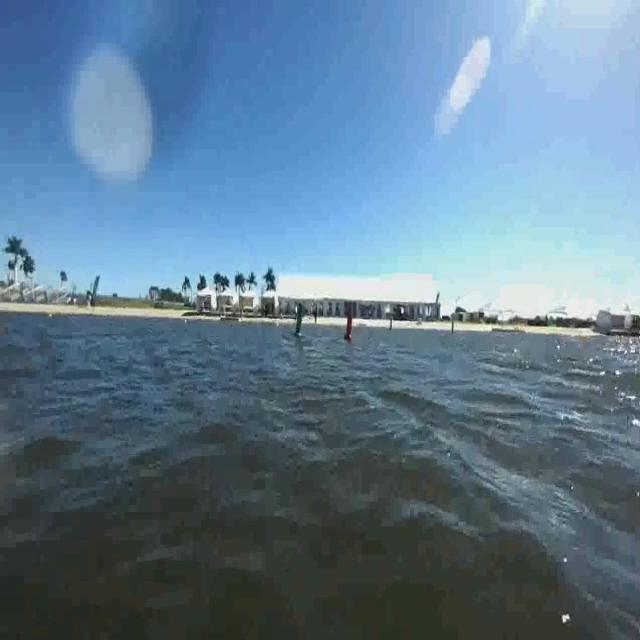green-column-buoy: (293, 304, 305, 340)
red-column-buoy: (345, 309, 355, 341)
